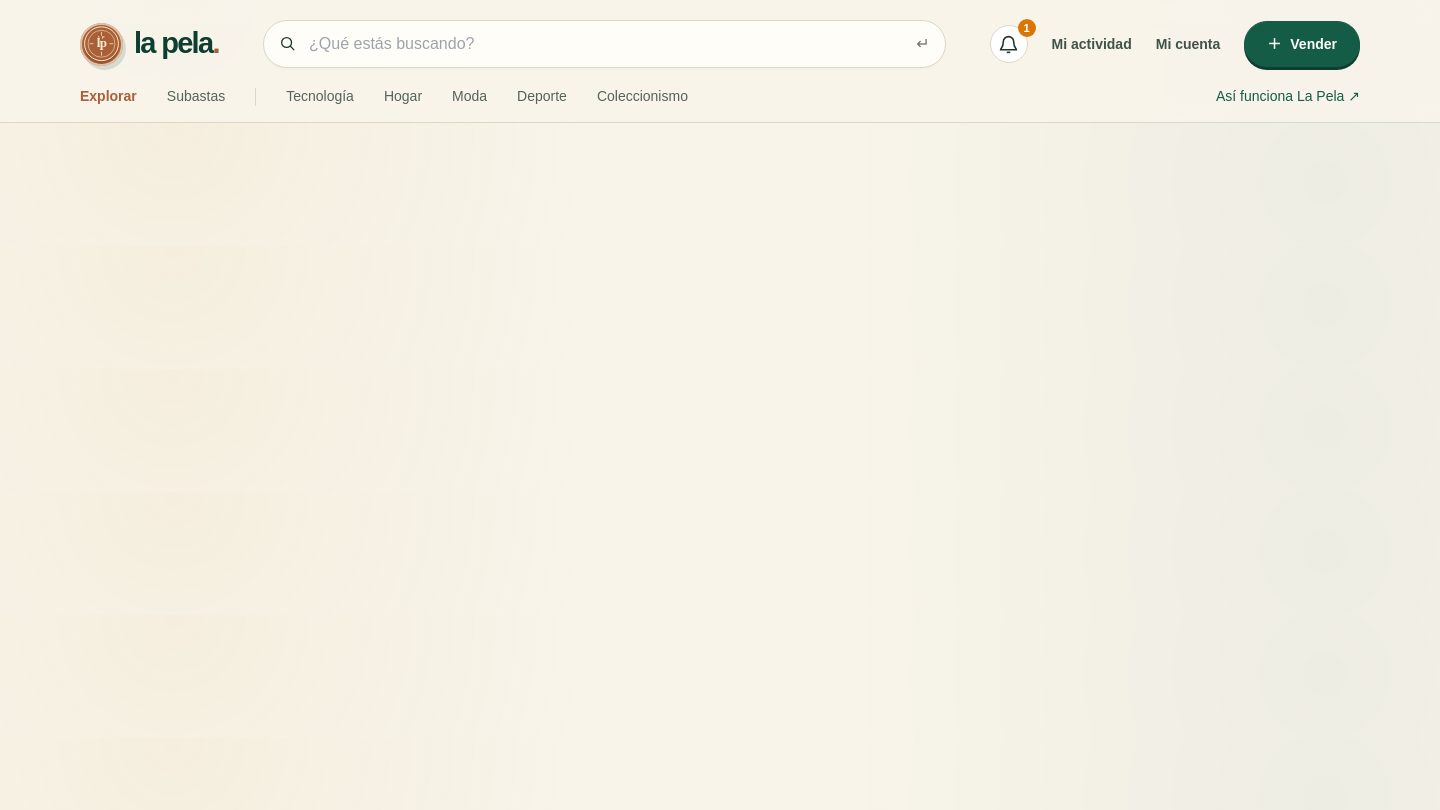
Test: Header notifications › keeps the unread notification visible when article metadata is unavailable
Click the button named "1 novedades sin leer": (1009, 44) x1=990 y1=25 x2=1028 y2=63
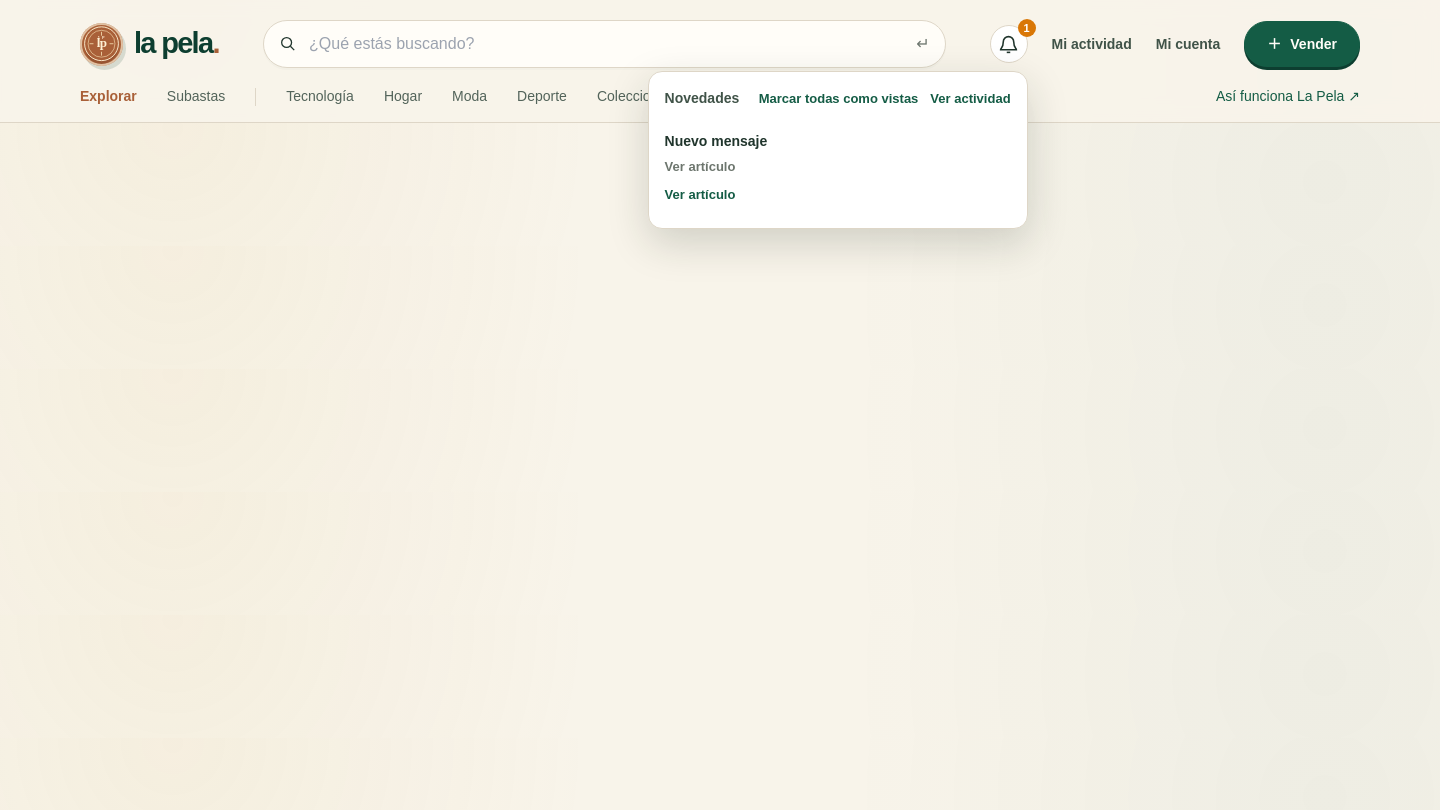
Check: the text "Nuevo mensaje" is shown, box x1=665 y1=133 x2=767 y2=149
